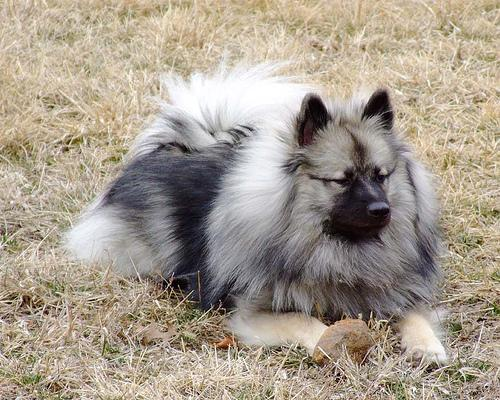dog-keeshond: (293, 86, 397, 232)
